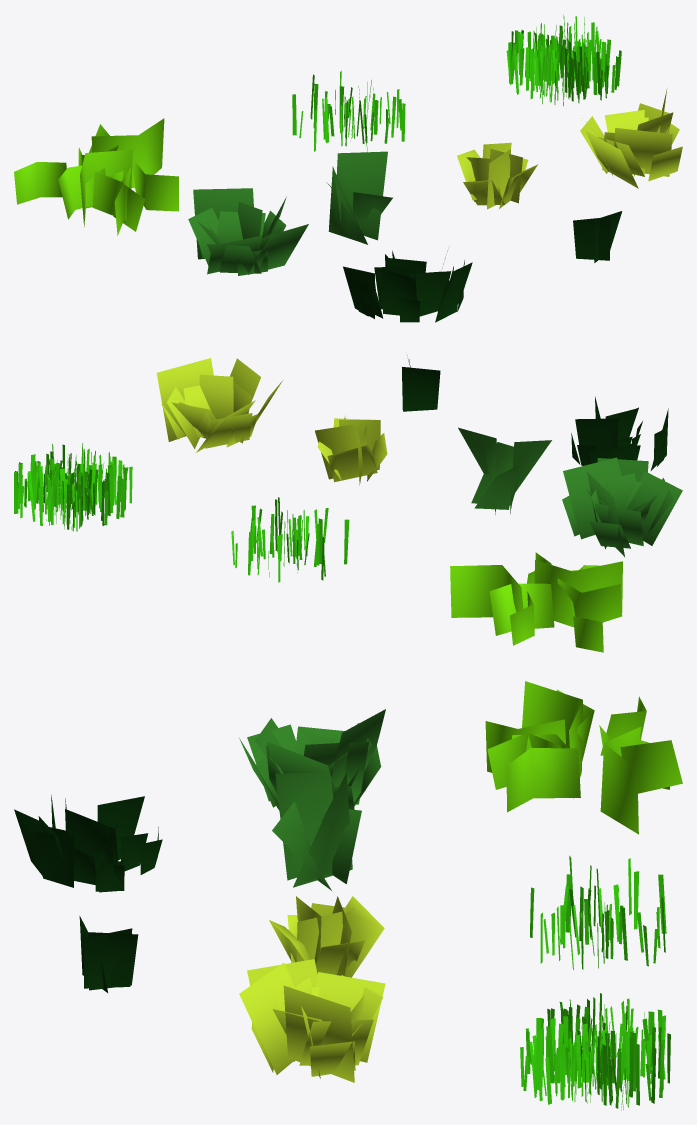
Rendered from Grass_For_Games.fbx.
The picture shows the model from 3 angles, top to bottom: view 1: azimuth 30°, elevation 25°; view 2: azimuth 150°, elevation 25°; view 3: azimuth 270°, elevation 25°; orthographic projection. The views are drawn at different scales.
Parts seen in each view (by area): view 1: Wheat_Grass_LowPoly, Grass_jumbled_Low_Spread, Wheat_Grass_High_Dense, Grass_B_Low_Dense, Grass_jumbled_Low_Dense_1, Grass_jumbled_Low_Spread_1, Grass_Jumbled_Low_Dense, Wheat_Grass_High_Spread, Grass_B_Low_Small; view 2: Wheat_Grass_LowPoly, Grass_jumbled_Low_Spread, Grass_jumbled_Low_Dense_1, Wheat_Grass_High_Dense, Grass_jumbled_Low_Spread_1, Grass_Jumbled_Low_Dense, Grass_B_Low_Dense, Wheat_Grass_High_Spread, Grass_B_Low_Small; view 3: Wheat_Grass_LowPoly, Grass_jumbled_Low_Dense_1, Wheat_Grass_High_Dense, Grass_B_Low_Dense, Grass_jumbled_Low_Spread_1, Grass_jumbled_Low_Spread, Grass_Jumbled_Low_Dense, Wheat_Grass_High_Spread, Grass_B_Low_Small.
Part boxes in pixels (x1,y1,x2,y2): Wheat_Grass_LowPoly: (14, 118, 178, 235); Grass_jumbled_Low_Spread: (188, 188, 308, 275); Wheat_Grass_High_Dense: (506, 15, 621, 105); Grass_B_Low_Dense: (343, 250, 472, 322); Grass_jumbled_Low_Dense_1: (580, 88, 682, 188); Grass_jumbled_Low_Spread_1: (326, 151, 392, 244); Grass_Jumbled_Low_Dense: (457, 142, 537, 209); Wheat_Grass_High_Spread: (292, 70, 405, 152); Grass_B_Low_Small: (573, 211, 622, 262); Wheat_Grass_LowPoly: (450, 552, 622, 652); Grass_jumbled_Low_Spread: (562, 457, 682, 556); Grass_jumbled_Low_Dense_1: (156, 358, 282, 452); Wheat_Grass_High_Dense: (14, 443, 132, 531); Grass_jumbled_Low_Spread_1: (458, 427, 551, 514); Grass_Jumbled_Low_Dense: (315, 415, 387, 485); Grass_B_Low_Dense: (571, 396, 668, 470); Wheat_Grass_High_Spread: (231, 497, 349, 582); Grass_B_Low_Small: (402, 355, 440, 411); Wheat_Grass_LowPoly: (485, 681, 682, 834); Grass_jumbled_Low_Dense_1: (239, 959, 385, 1082); Wheat_Grass_High_Dense: (520, 993, 670, 1110); Grass_B_Low_Dense: (14, 795, 162, 892); Grass_jumbled_Low_Spread_1: (272, 772, 361, 890); Grass_jumbled_Low_Spread: (239, 709, 385, 810); Grass_Jumbled_Low_Dense: (269, 896, 384, 977); Wheat_Grass_High_Spread: (530, 855, 666, 969); Grass_B_Low_Small: (79, 916, 138, 992).
Size of the model in its own units: 290 by 40.33 by 218.
